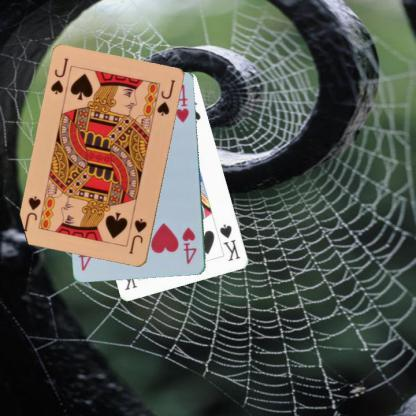4h: (180, 225, 198, 265)
Js: (126, 216, 148, 256), (48, 56, 70, 96)
Ks: (217, 221, 242, 263)
